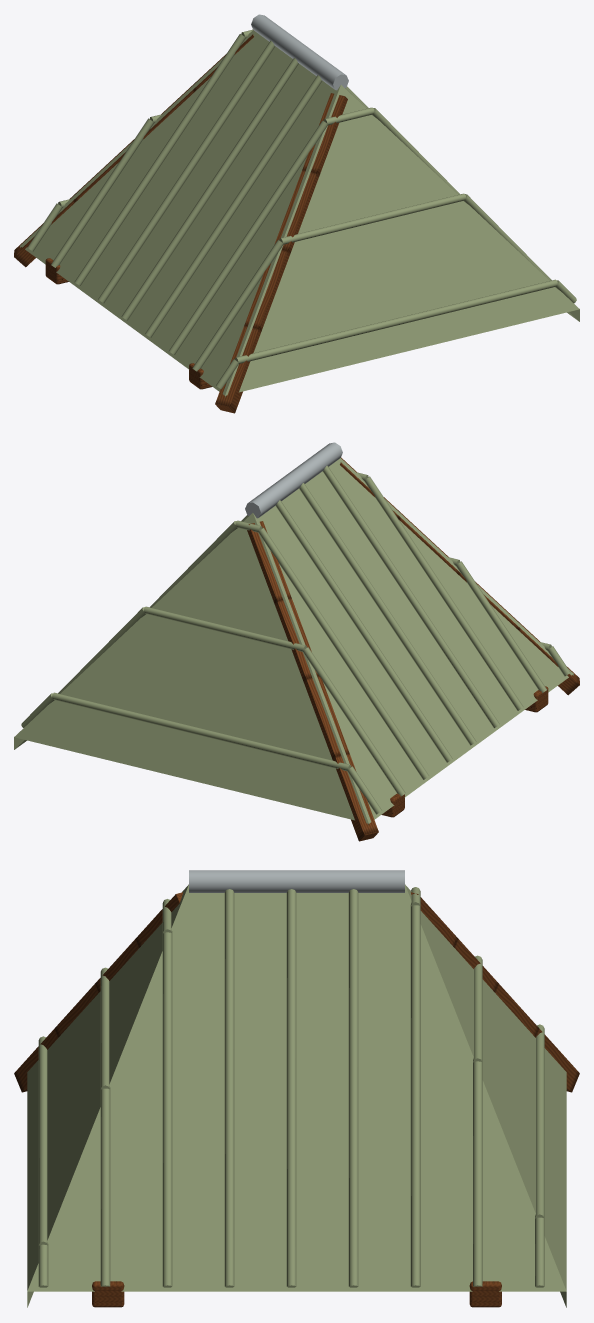
The model's file is thatch-hip-roof.glb.
3 views of the same model, one above another, from view 1: azimuth 30°, elevation 25°; view 2: azimuth 150°, elevation 25°; view 3: azimuth 270°, elevation 25° (orthographic). The views are drawn at different scales.
Visible parts, largest first — view 1: thatch-hip-roof; view 2: thatch-hip-roof; view 3: thatch-hip-roof.
Part boxes in pixels (left/top/right/bottom): thatch-hip-roof: left=14, top=14, right=579, bottom=413; thatch-hip-roof: left=14, top=442, right=579, bottom=841; thatch-hip-roof: left=14, top=870, right=579, bottom=1307.
Bounding box in the file's own units: 2.06 × 1.35 × 2.1.
Materials: 3 (1 with a texture image).
